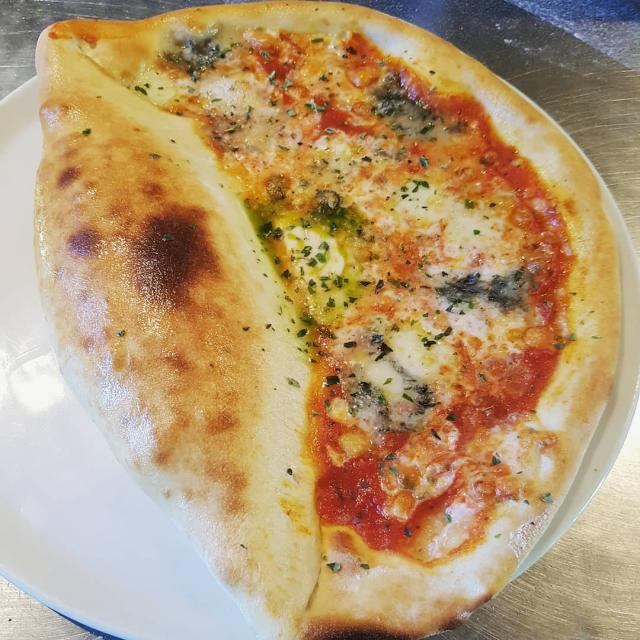basil: (425, 262, 526, 316), (358, 76, 440, 140), (154, 30, 238, 86)
pizza: (36, 2, 620, 640)
